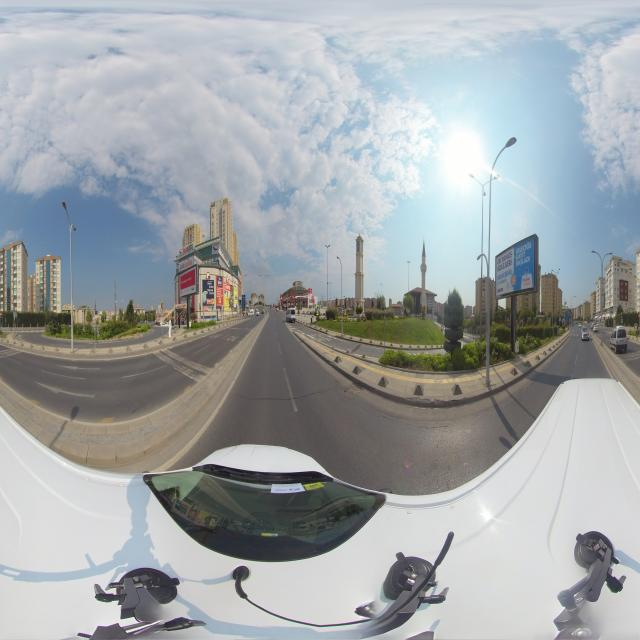SignStore: (178, 252, 194, 272), (219, 243, 230, 268), (178, 241, 195, 257), (296, 282, 303, 287)
